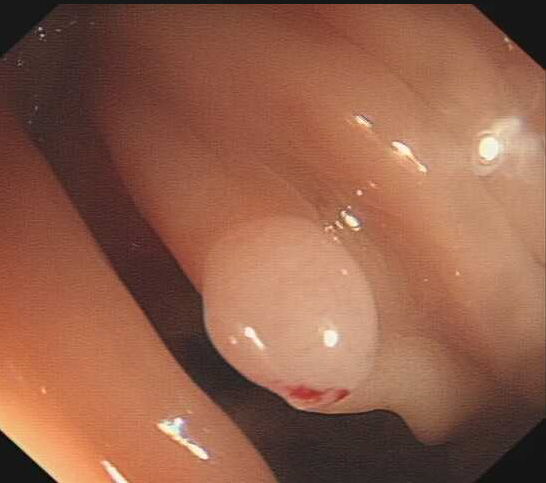others: (197, 211, 383, 417)
